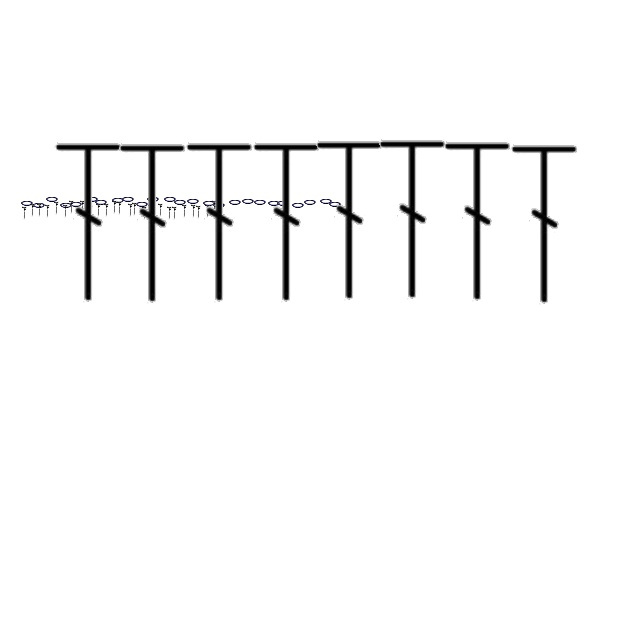chain: (20, 198, 34, 208), (32, 200, 46, 210), (45, 194, 59, 204), (59, 200, 73, 210), (69, 199, 83, 209), (85, 194, 99, 204), (94, 197, 108, 207), (111, 195, 125, 205), (121, 194, 135, 204), (135, 199, 149, 209), (146, 194, 160, 204), (163, 194, 177, 204), (173, 197, 187, 207), (186, 196, 200, 206), (202, 198, 216, 208), (212, 200, 226, 210), (228, 197, 242, 207), (241, 196, 255, 206), (253, 197, 267, 207), (267, 198, 281, 208), (276, 198, 290, 208), (291, 200, 305, 210), (303, 197, 317, 207), (319, 196, 333, 206), (328, 199, 342, 209)
double treble: (53, 137, 125, 307), (117, 138, 189, 308), (184, 137, 256, 307), (251, 137, 323, 307), (314, 135, 386, 305), (377, 134, 449, 304), (442, 136, 514, 306), (509, 139, 581, 309), (22, 206, 28, 220), (30, 203, 36, 217), (54, 201, 60, 215), (80, 200, 86, 214), (88, 205, 94, 219), (96, 203, 102, 217), (104, 203, 110, 217), (112, 200, 118, 214), (128, 203, 134, 217), (132, 202, 138, 216), (142, 206, 148, 220), (148, 204, 154, 218), (158, 203, 164, 217), (172, 206, 178, 220), (182, 204, 188, 218), (196, 205, 202, 219), (212, 200, 218, 214), (38, 203, 42, 217), (46, 204, 50, 218), (64, 204, 68, 218), (70, 200, 74, 214), (118, 201, 122, 215), (168, 206, 172, 220), (192, 204, 196, 218), (206, 204, 210, 218)
